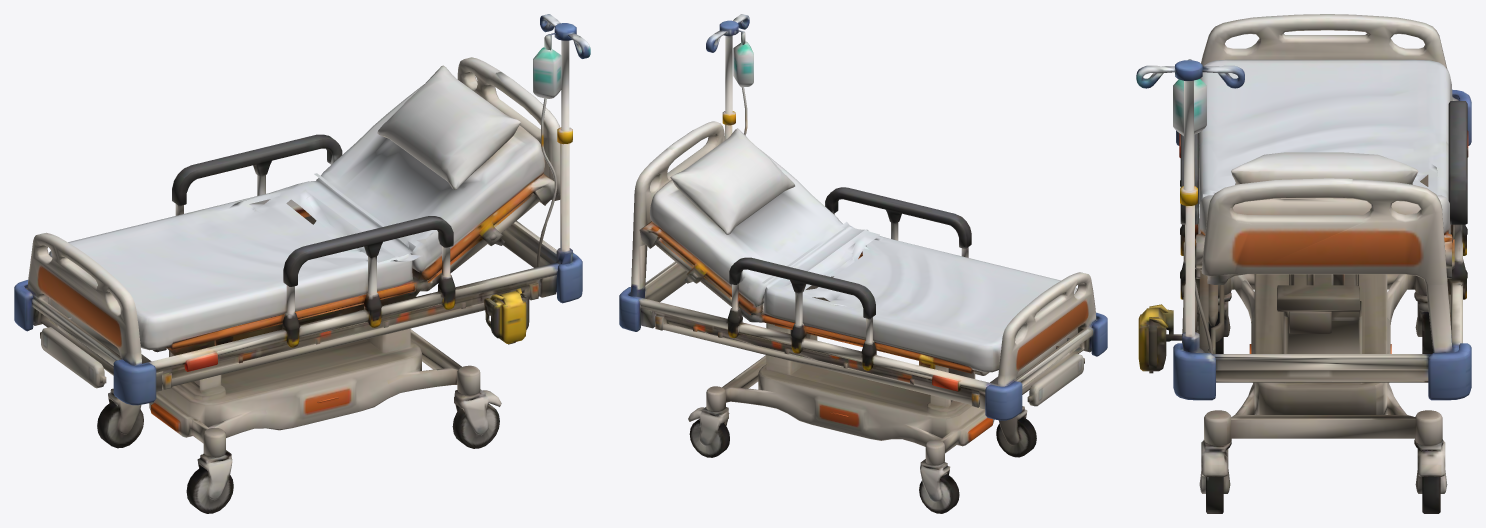
File: Medical__medical_stretcher_realistic_style_d2c30a1f_v2.cluster.glb
3 views of the same model, side by side, from view 1: azimuth 30°, elevation 25°; view 2: azimuth 150°, elevation 25°; view 3: azimuth 270°, elevation 25° (orthographic). The views are drawn at different scales.
Visible parts, largest first — view 1: mesh_input; view 2: mesh_input; view 3: mesh_input.
Part boxes in pixels (x1,y1,x2,y2): mesh_input: [14, 14, 590, 513]; mesh_input: [619, 14, 1107, 513]; mesh_input: [1136, 14, 1471, 513].
Bounding box in the file's own units: 1.9 × 1.62 × 0.9964.
1 material, 1 textured.
